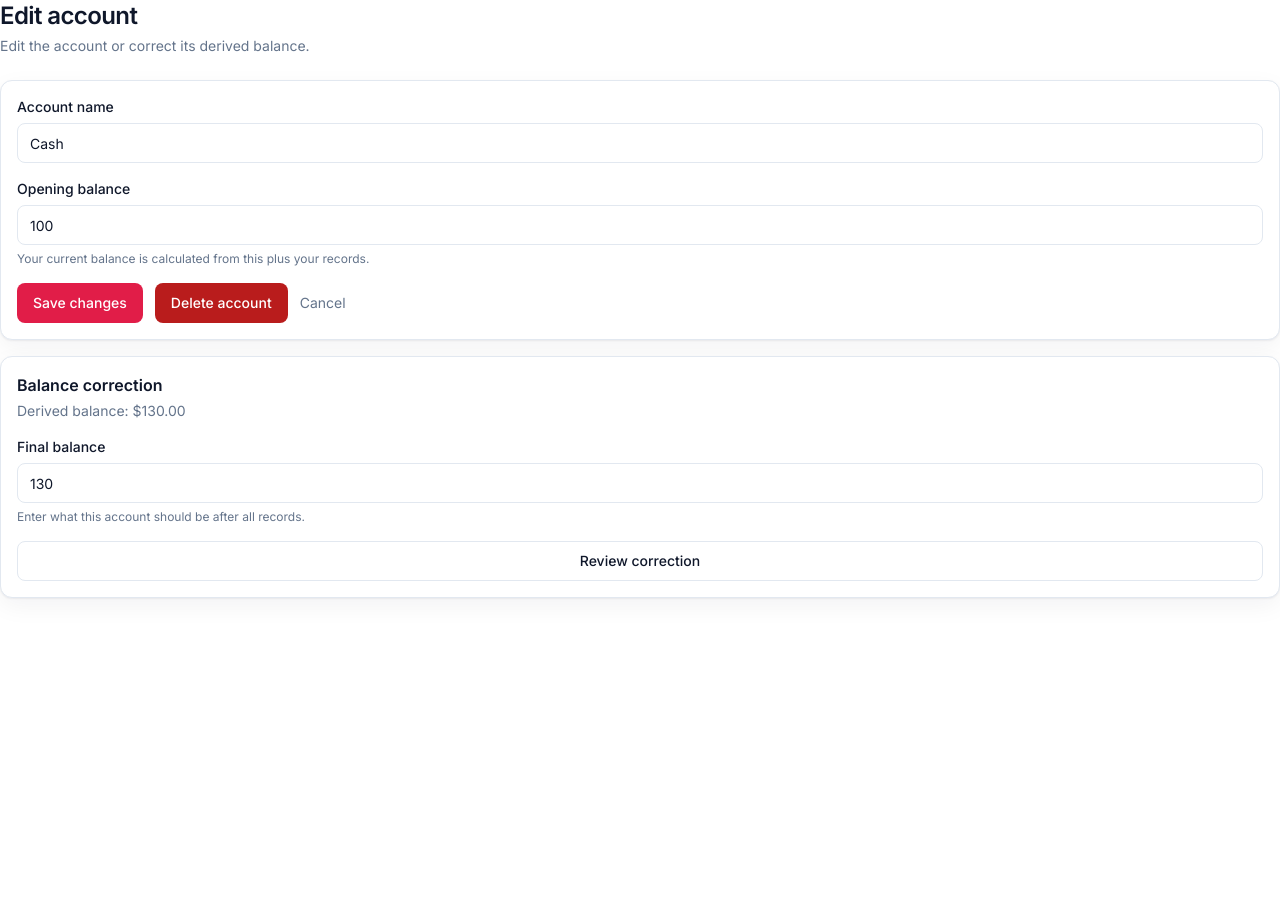
AccountFormPage balance correction (D-020) › adjusts the opening balance by the difference without creating a ledger row
Replace the text in the field labelled "Final balance" with "110" at (640, 483), box [17,463,1263,503]
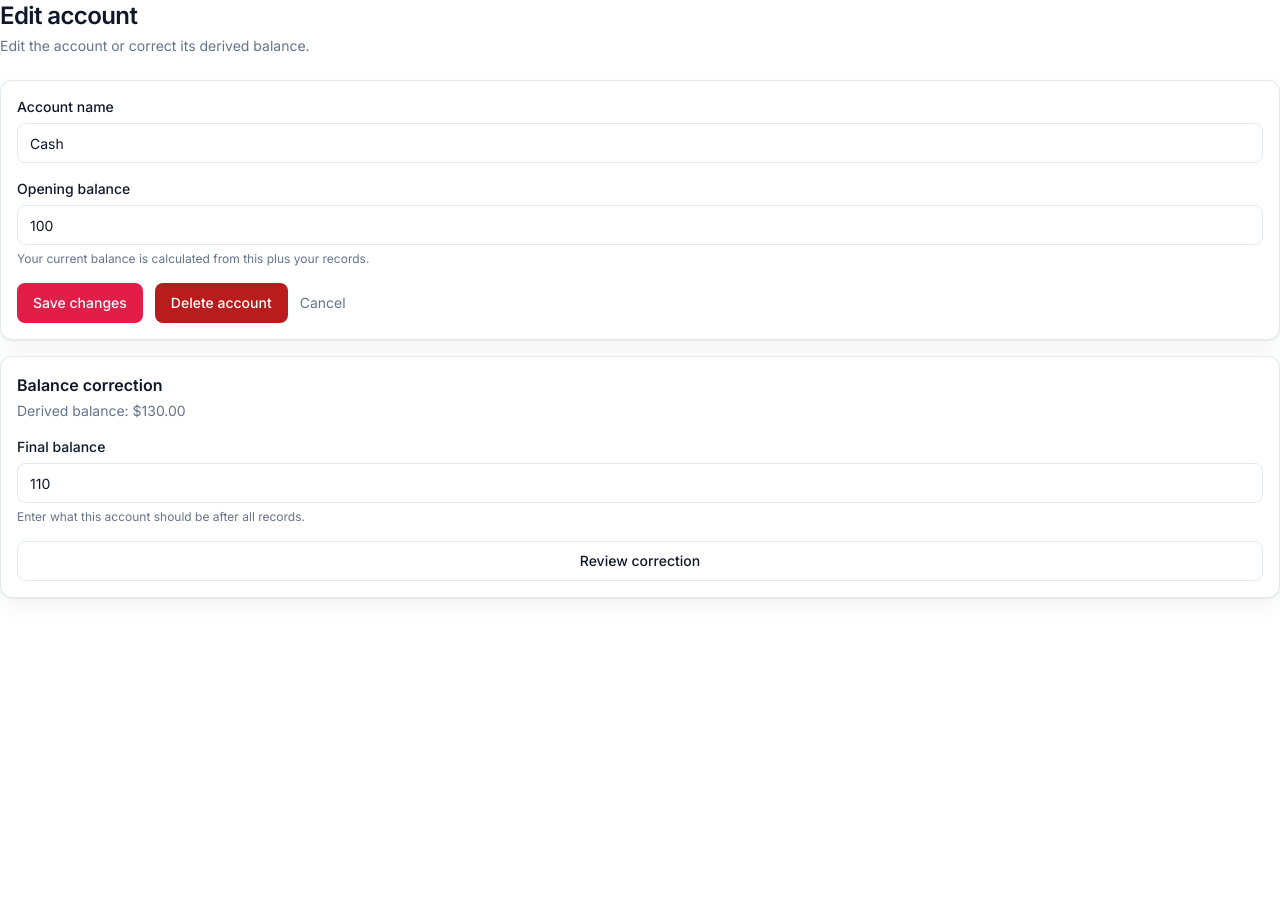
Click the button "Review correction".
click(640, 561)  # box [17,541,1263,581]
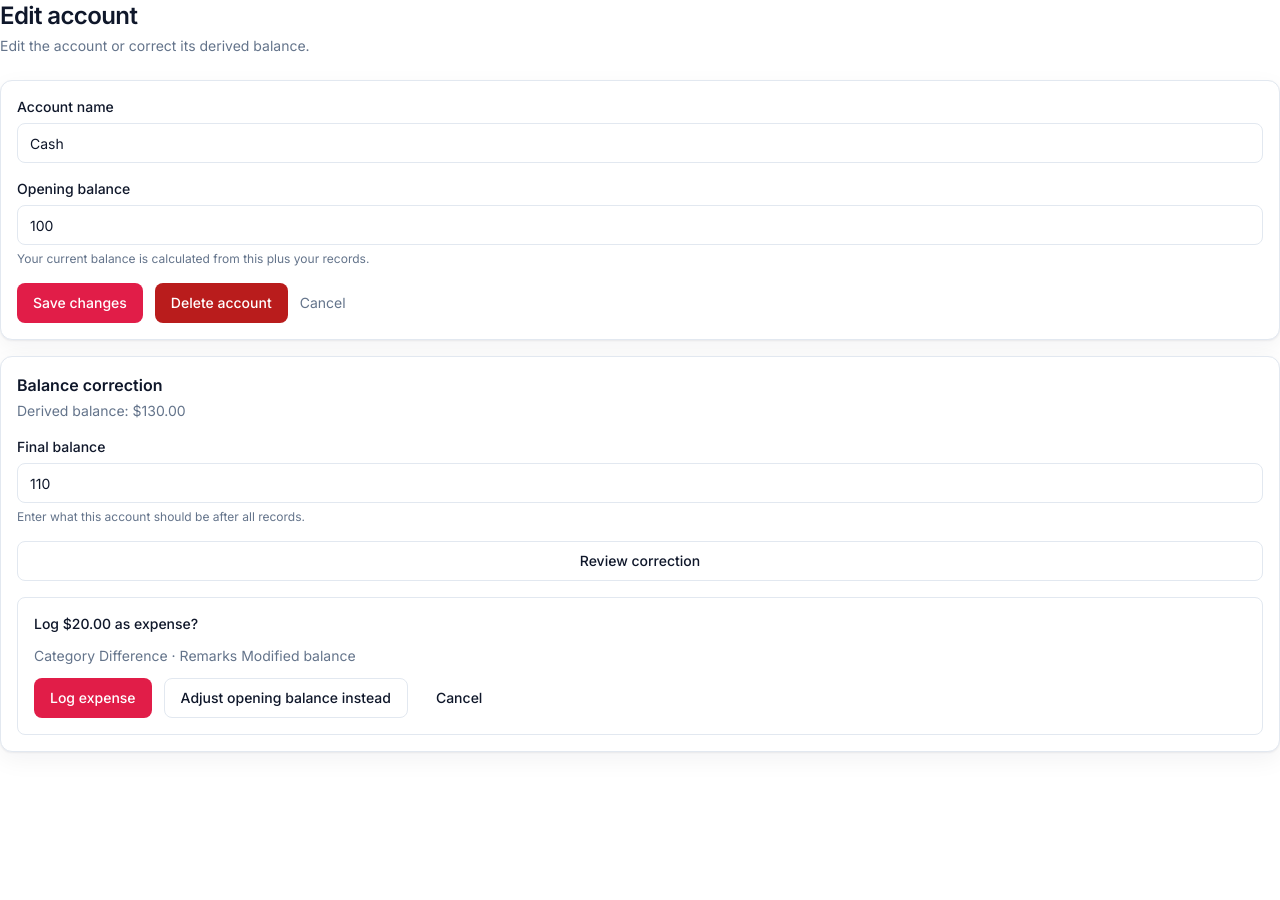
Click the button "Adjust opening balance instead".
click(286, 698)  # box [164,678,408,718]
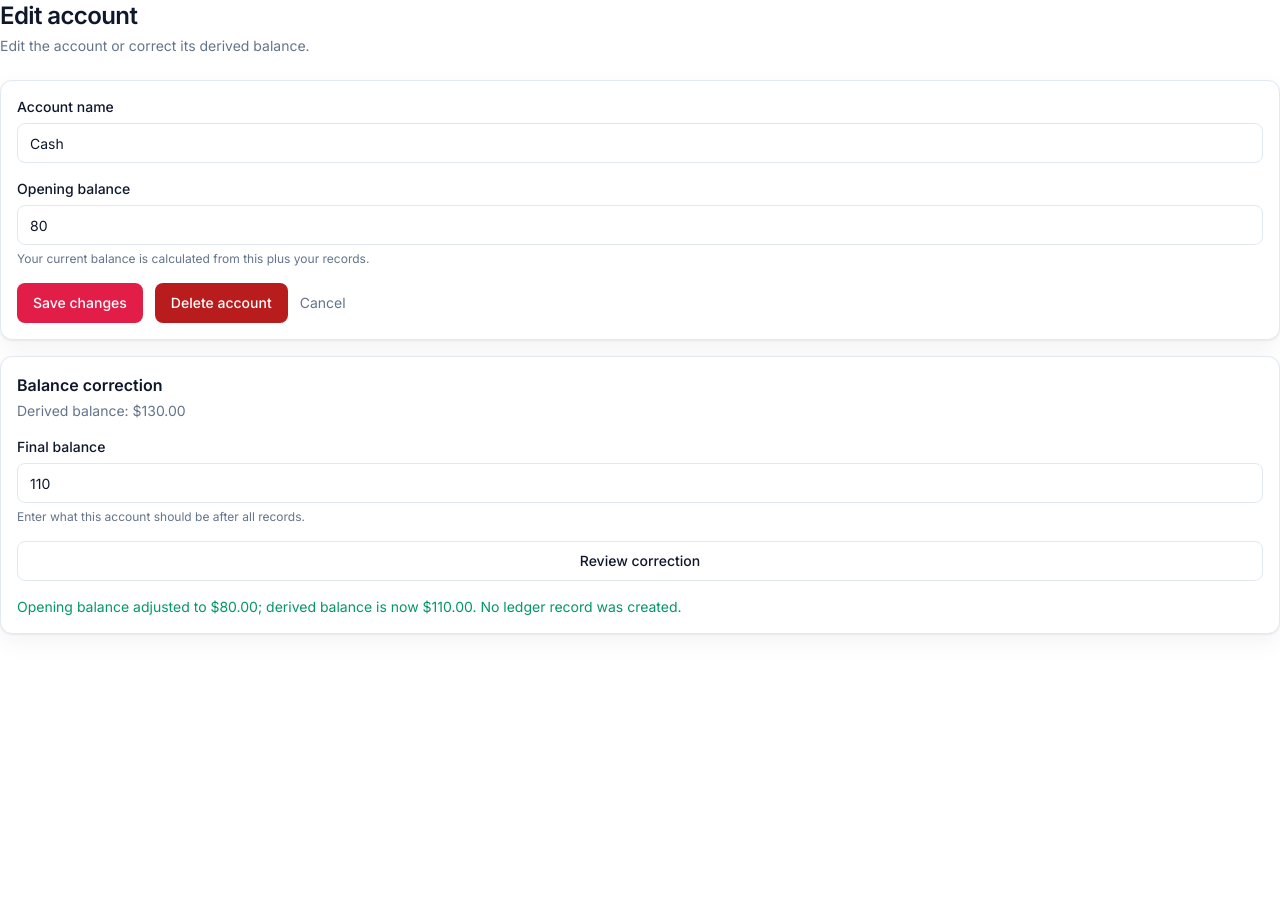
Check: the text "Opening balance adjusted to $80.00; derived balance is now $110.00. No ledger record was created." is shown, box [17,598,682,615]
